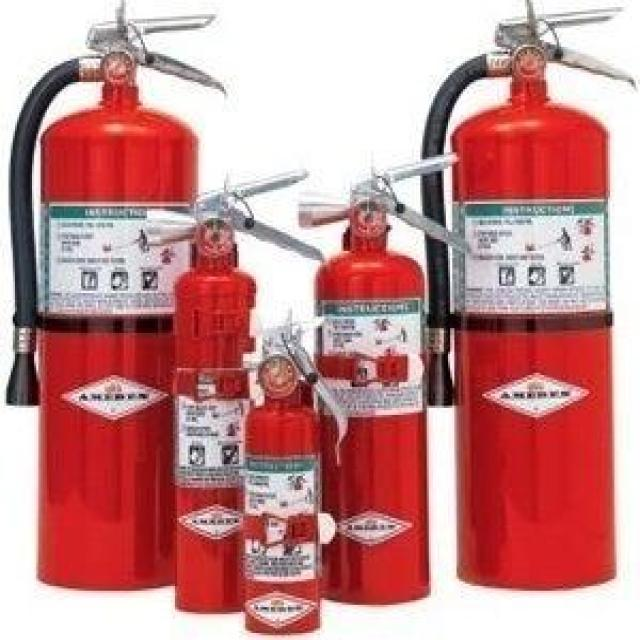fire_extinguisher: (0, 0, 228, 595), (412, 0, 638, 593), (134, 160, 324, 616), (291, 148, 479, 605), (228, 304, 350, 638)
